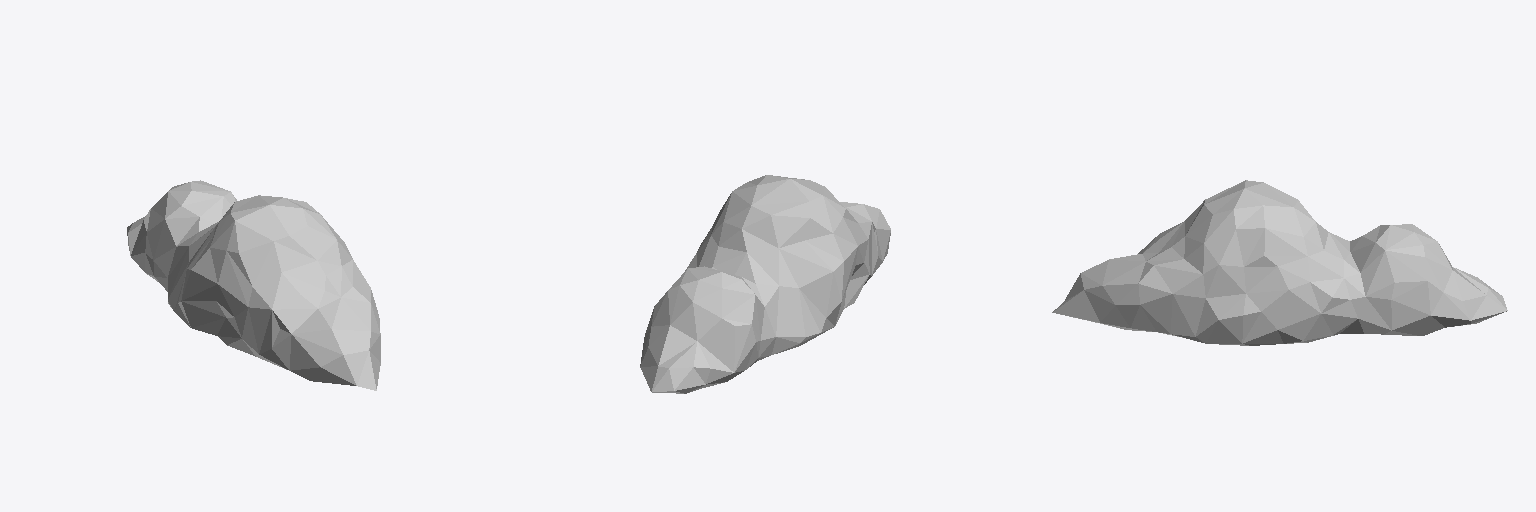
Rendered from cloud1.obj.
The picture shows the model from 3 angles: view 1: azimuth 30°, elevation 25°; view 2: azimuth 150°, elevation 25°; view 3: azimuth 270°, elevation 25°; orthographic projection.
Visible parts, largest first — view 1: Clouds.002; view 2: Clouds.002; view 3: Clouds.002.
Part boxes in pixels (x1,y1,x2,y2): Clouds.002: (127,180,380,390); Clouds.002: (640,175,890,393); Clouds.002: (1052,180,1507,345).
Size of the model in its own units: 2.8 by 2.36 by 7.46.